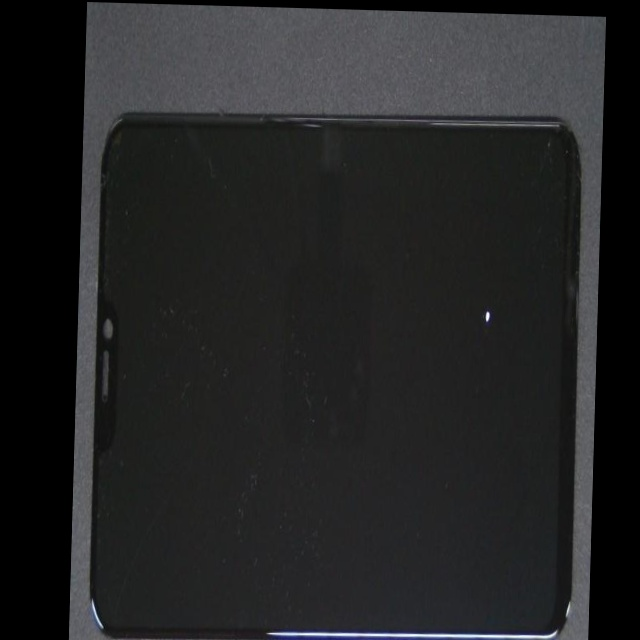stain: (247, 118, 603, 484)
